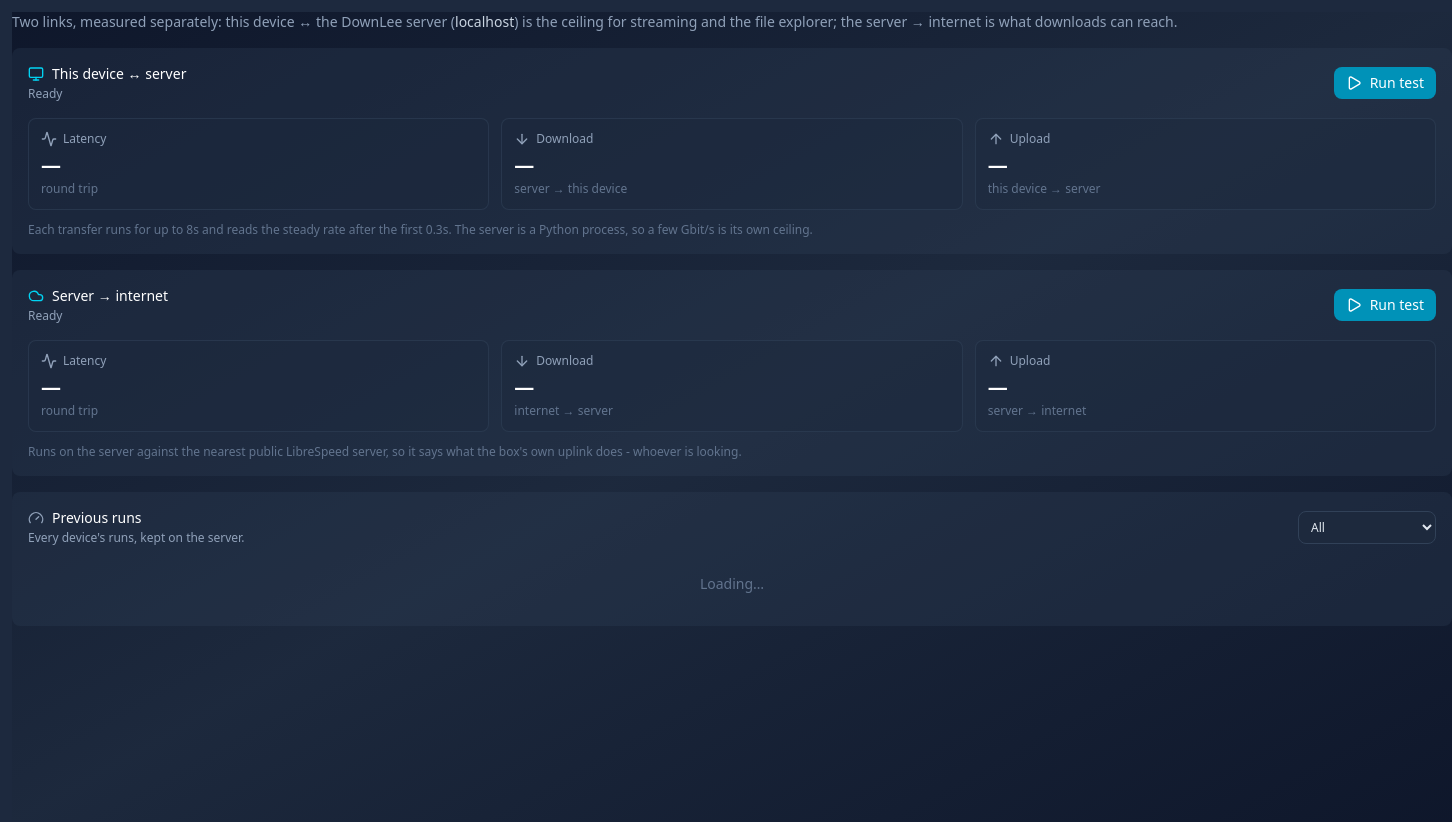
it: server -> internet › starts the backend run, and shows Stop while it is on
This screenshot has width=1452, height=822.
Later steps or results of the test are not shown.
Click the 2nd button "Run test" at (1385, 305), box [1334,289,1436,321]
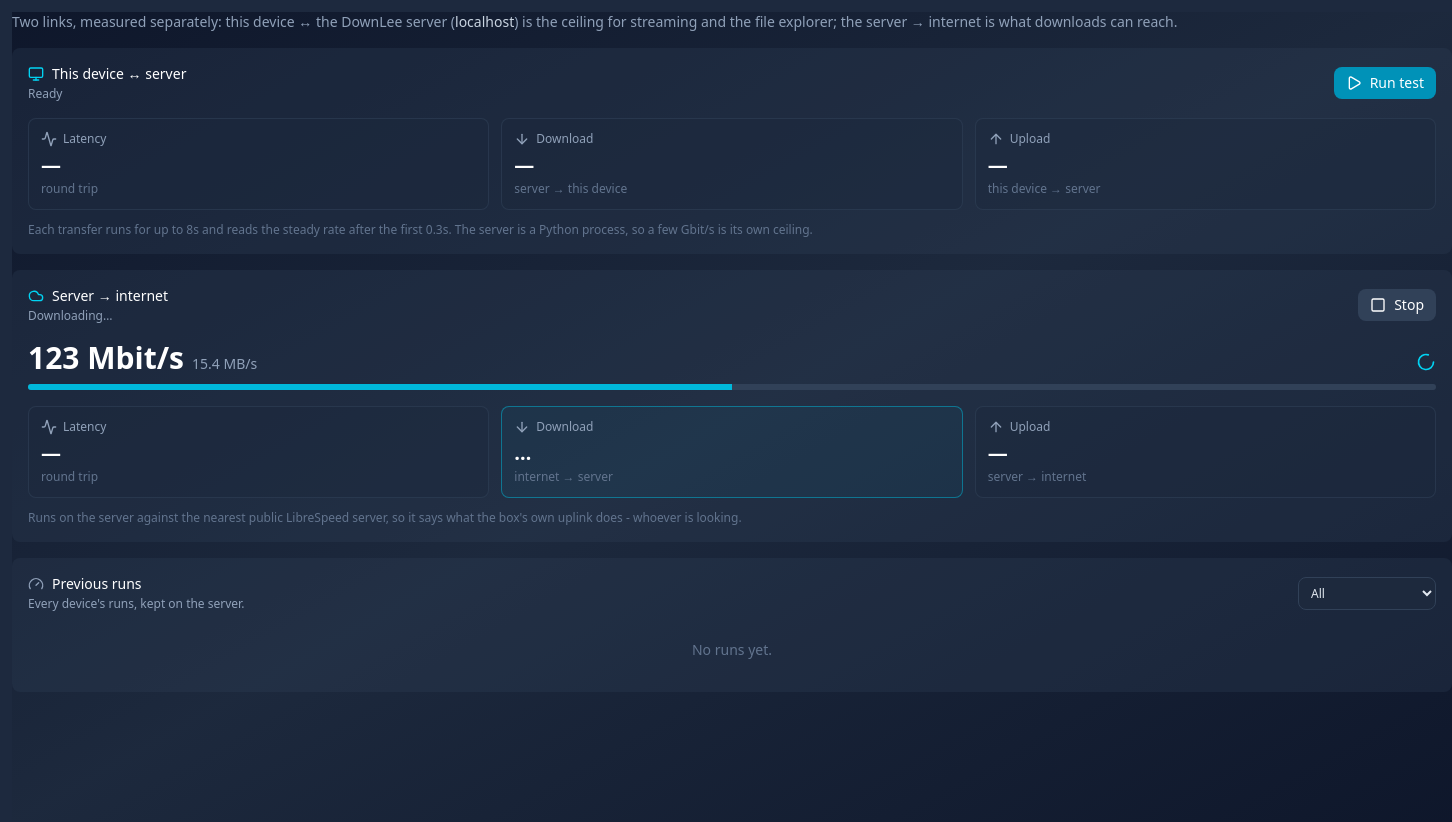
Now the text "Downloading…" is shown, box [28,307,112,324]
Now the text "123 Mbit/s" is shown, box [28,337,184,378]
